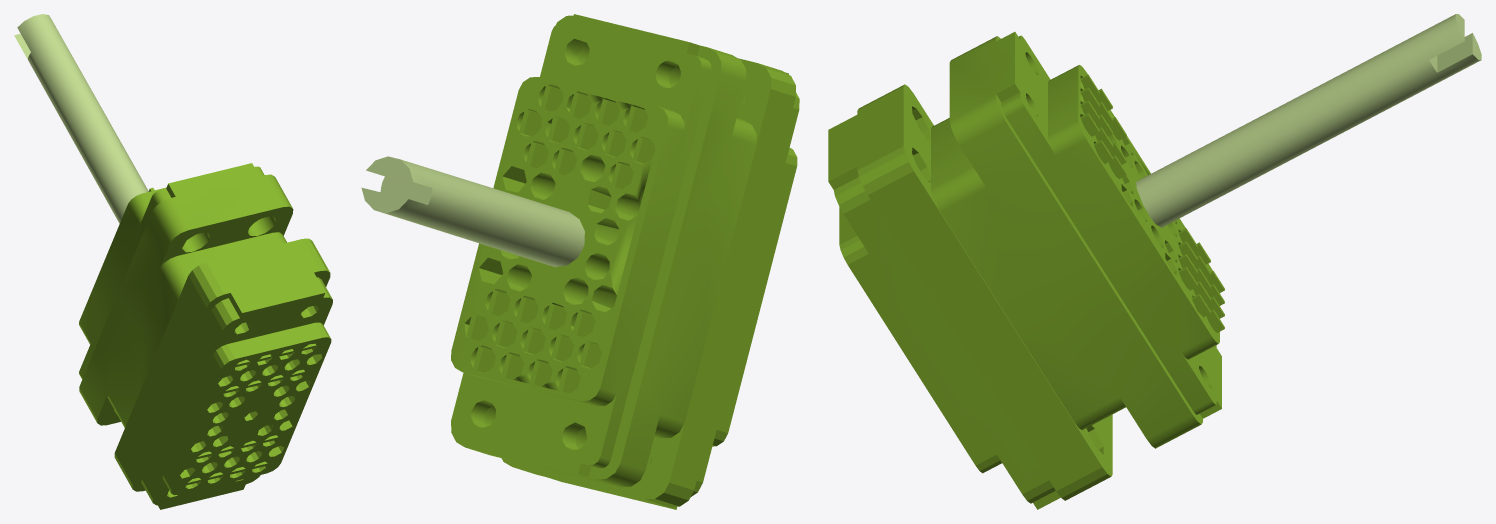
File: SP 516-038-000-301 SLAVIA 1.fbx
3 renders of one model, left to right at view 1: azimuth 30°, elevation 25°; view 2: azimuth 150°, elevation 25°; view 3: azimuth 270°, elevation 25°, orthographic. The views are drawn at different scales.
Visible parts, largest first — view 1: SLAVIA corpus 2, SLAVIA corpus 1; view 2: SLAVIA corpus 1, SLAVIA corpus 2; view 3: SLAVIA corpus 1, SLAVIA corpus 2.
Part boxes in pixels (bbox=[...]): SLAVIA corpus 2: bbox=[114, 187, 332, 509]; SLAVIA corpus 1: bbox=[14, 14, 293, 427]; SLAVIA corpus 1: bbox=[361, 14, 756, 487]; SLAVIA corpus 2: bbox=[466, 58, 799, 509]; SLAVIA corpus 1: bbox=[931, 14, 1481, 448]; SLAVIA corpus 2: bbox=[828, 74, 1224, 509].
Size of the model in its own units: 22.3 by 62.83 by 79.67.
